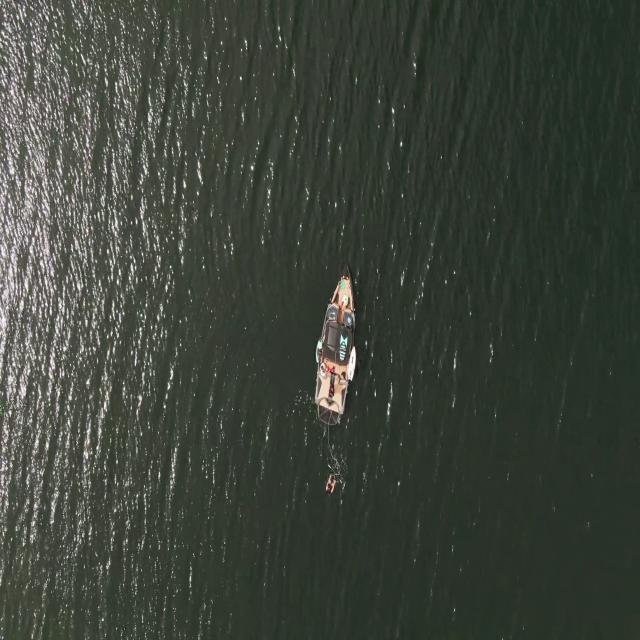ship: (311, 264, 358, 426), (348, 345, 356, 383)
